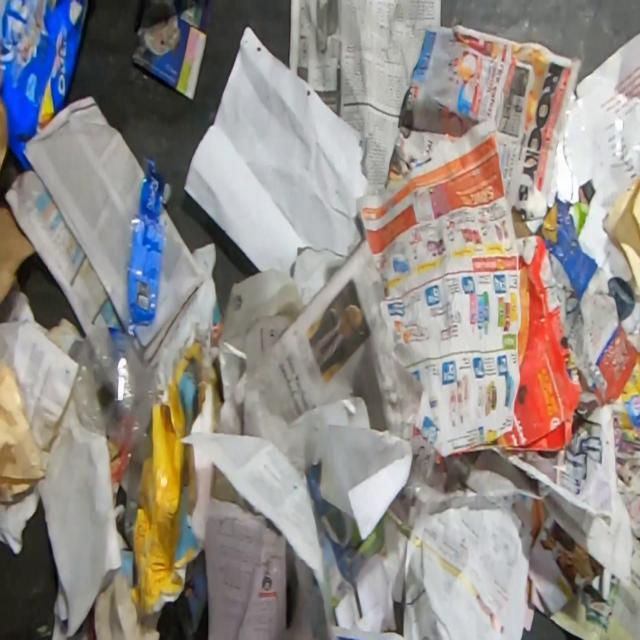cardboard: (435, 235, 587, 463), (120, 339, 216, 615), (536, 197, 640, 405), (302, 455, 413, 612), (0, 360, 48, 505), (0, 185, 38, 307)
rigid_plastic: (66, 156, 172, 551)
